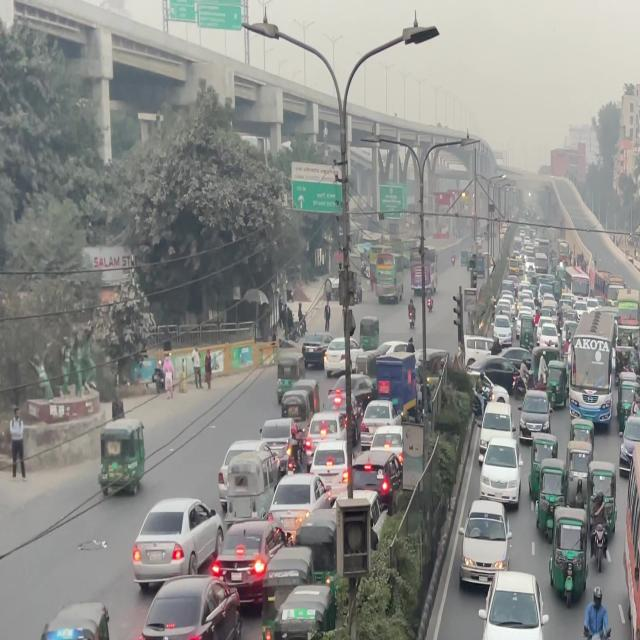bus: (624, 456, 640, 639), (572, 334, 618, 392)
car: (128, 497, 223, 587), (133, 580, 232, 640), (480, 570, 547, 640), (463, 502, 512, 588)
rickshaw: (94, 405, 150, 499), (261, 579, 335, 640), (547, 500, 593, 594), (36, 600, 116, 640)
